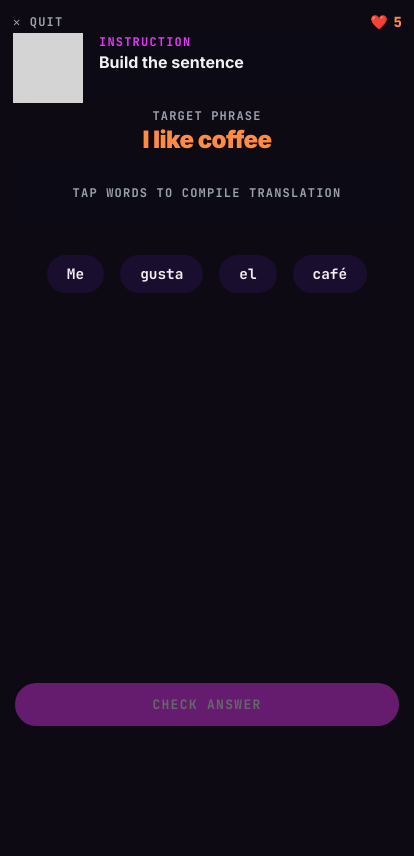
Scenario: LessonRunner — word bank › enables CHECK ANSWER when words are arranged
Click the button "Me": (75, 274) [44,252,107,296]
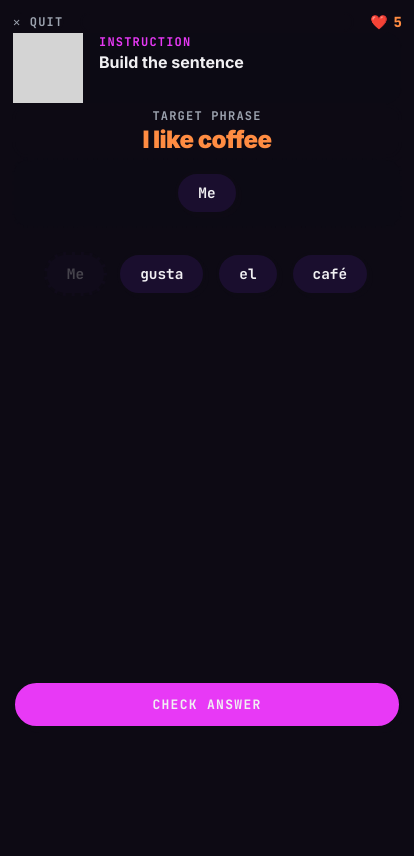
Expected: the button "CHECK ANSWER" is enabled, [12,680,402,729]
